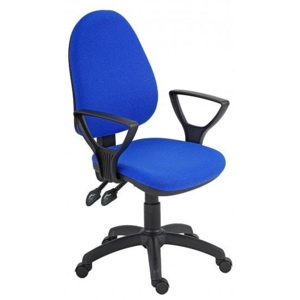chair: (68, 9, 233, 295)
